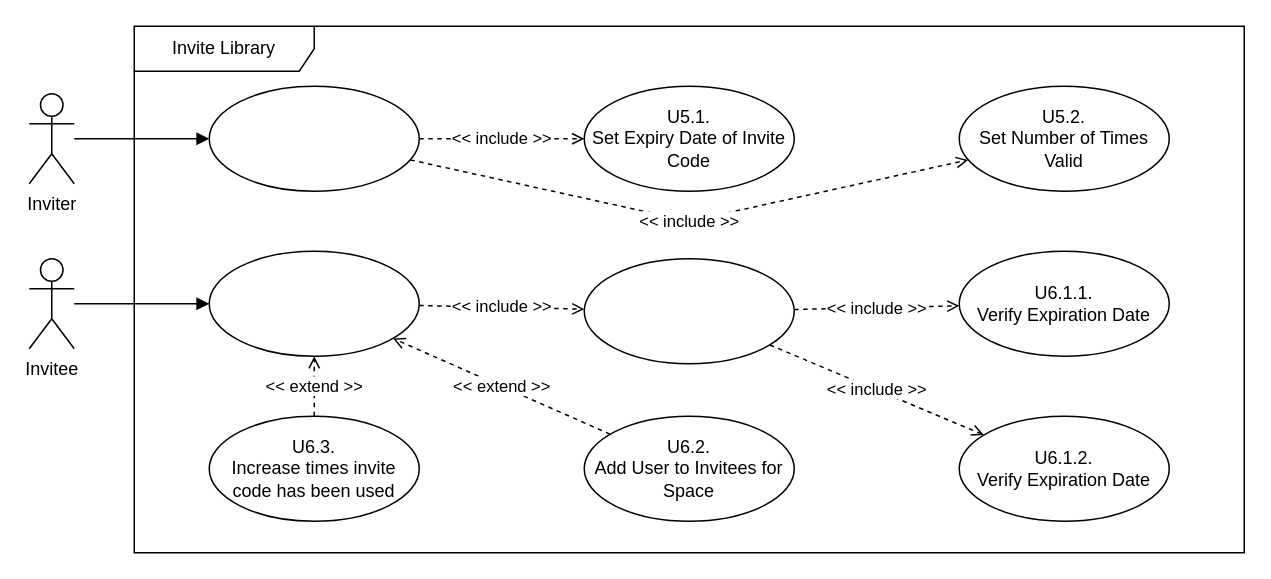
Image size: 1271x579. Some labels were removed from this diagram. The shapes that lost their labels are listed below. From the top down, each one's centre as x and y in pixels, then its label:
At point (313, 138): "U5. Create Invite Code".
At point (313, 303): "U6. Submit Invite Code".
At point (688, 310): "U6.1. Verify Invite Code is Valid".
